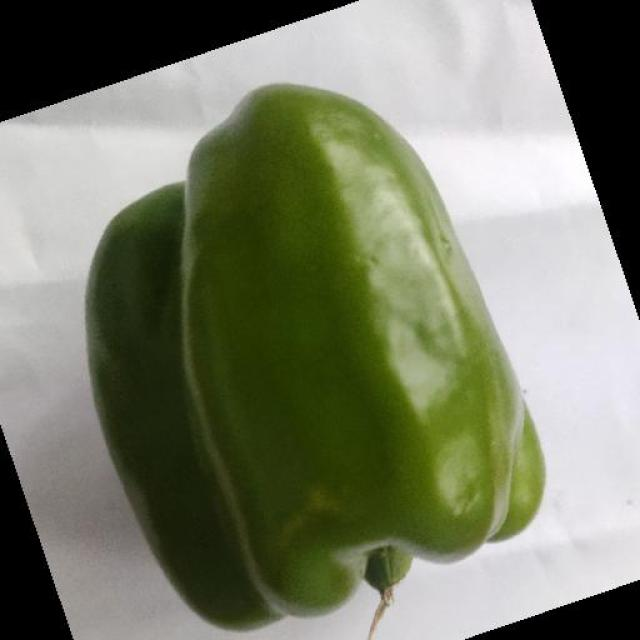Fresh_Capsicum: (114, 90, 553, 598)
